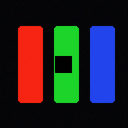1 square: (55, 56, 71, 72)
